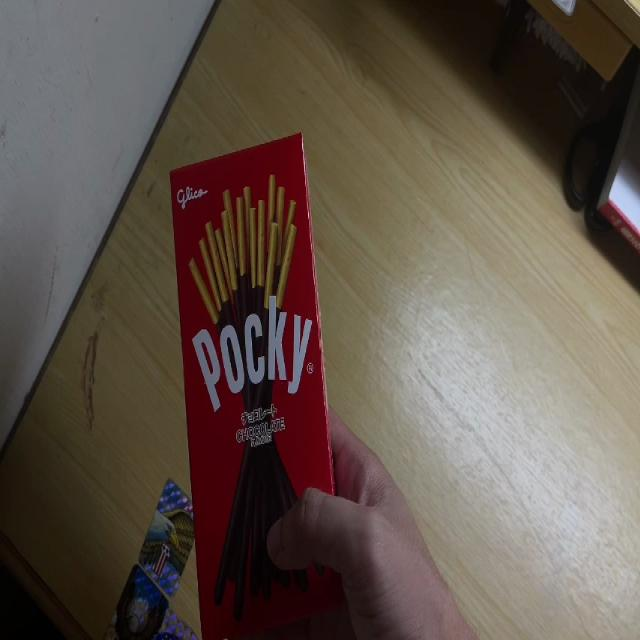Pocky: (171, 129, 346, 640)
